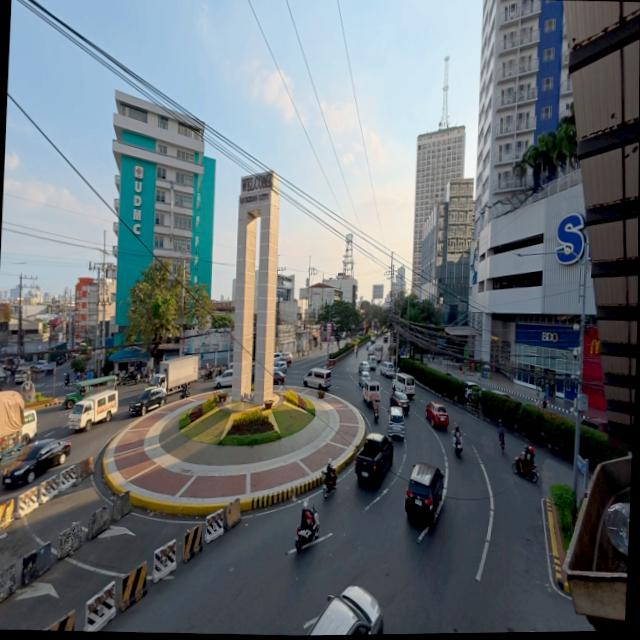Jeepneys: (65, 375, 116, 409)
bus: (373, 343, 382, 361)
car: (309, 587, 383, 634), (2, 439, 71, 485), (406, 463, 444, 526), (129, 388, 167, 415), (387, 406, 406, 438), (426, 402, 449, 427), (389, 391, 410, 415), (582, 417, 608, 433), (215, 370, 233, 389), (466, 382, 481, 400), (359, 371, 370, 388), (273, 370, 285, 385), (274, 360, 287, 373), (491, 390, 512, 398), (281, 351, 292, 366), (359, 362, 369, 374), (273, 353, 282, 363), (367, 345, 373, 354), (367, 339, 374, 346), (383, 336, 388, 343)
motorcycle: (295, 504, 319, 552), (512, 454, 538, 483), (321, 470, 337, 498), (453, 435, 463, 455), (201, 368, 214, 381), (181, 384, 190, 399), (373, 402, 378, 422), (500, 436, 505, 454), (64, 375, 69, 387)
trucks: (355, 433, 394, 482), (151, 355, 198, 393), (0, 391, 24, 464)
vans: (69, 390, 118, 432), (304, 368, 331, 389), (393, 372, 415, 397), (22, 410, 37, 444), (364, 380, 380, 405), (14, 368, 31, 383), (380, 362, 394, 377), (368, 355, 377, 370)
